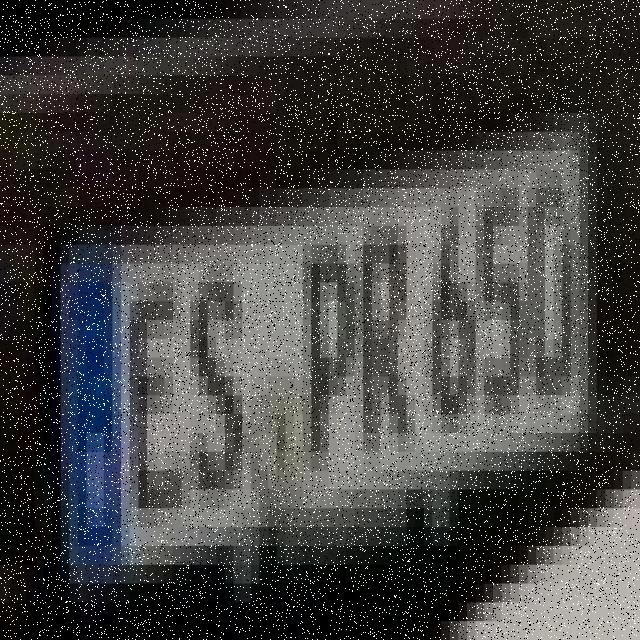licenseplate: (44, 128, 603, 620)
